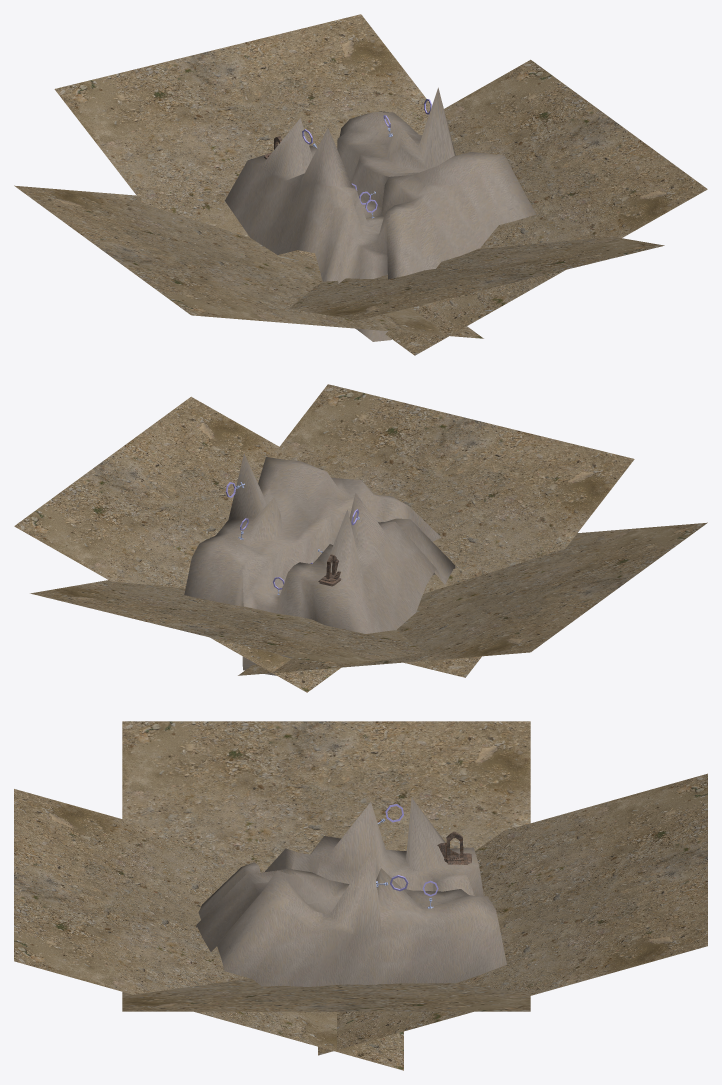
Rendered from sandy3.glb.
3 renders of one model, top to bottom at view 1: azimuth 30°, elevation 25°; view 2: azimuth 150°, elevation 25°; view 3: azimuth 270°, elevation 25°, orthographic. The views are drawn at different scales.
Visible parts, largest first — view 1: Plane, Plane.002, Plane.005, Plane.003, Plane.004; view 2: Plane.004, Plane.002, Plane.005, Plane.003, Plane; view 3: Plane.003, Plane, Plane.002, Plane.004, Plane.005, Cube.
Part boxes in pixels (<box>): Plane: <box>54,14,430,258</box>; Plane.002: <box>225,87,535,341</box>; Plane.005: <box>385,59,707,355</box>; Plane.003: <box>14,185,483,338</box>; Plane.004: <box>289,236,664,320</box>; Plane.004: <box>276,384,634,677</box>; Plane.002: <box>184,453,455,675</box>; Plane.005: <box>14,396,340,692</box>; Plane.003: <box>238,522,707,675</box>; Plane: <box>30,580,424,668</box>; Plane.003: <box>122,721,530,874</box>; Plane: <box>318,773,707,1055</box>; Plane.002: <box>196,798,506,986</box>; Plane.004: <box>14,789,403,1070</box>; Plane.005: <box>122,978,530,1011</box>; Cube: <box>437,831,471,864</box>.
Bounding box in the file's own units: 1251 × 378 × 1263.
5 materials, 3 textured.
